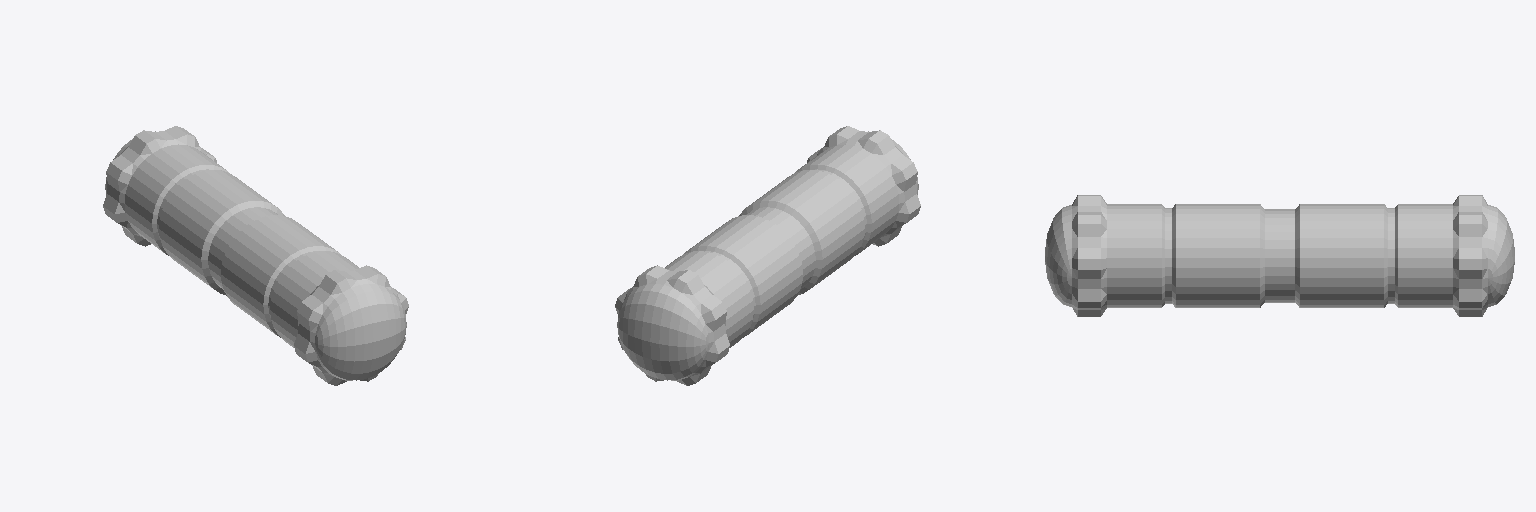
Rendered from paddle.obj.
3 renders of one model, left to right at view 1: azimuth 30°, elevation 25°; view 2: azimuth 150°, elevation 25°; view 3: azimuth 270°, elevation 25°, orthographic.
Parts seen in each view (by area): view 1: Cylinder; view 2: Cylinder; view 3: Cylinder.
Part boxes in pixels (bbox=[...]): Cylinder: bbox=[103, 126, 408, 385]; Cylinder: bbox=[615, 126, 920, 385]; Cylinder: bbox=[1045, 195, 1514, 316].
Bounding box in the file's own units: 1.73 × 1.73 × 6.81.